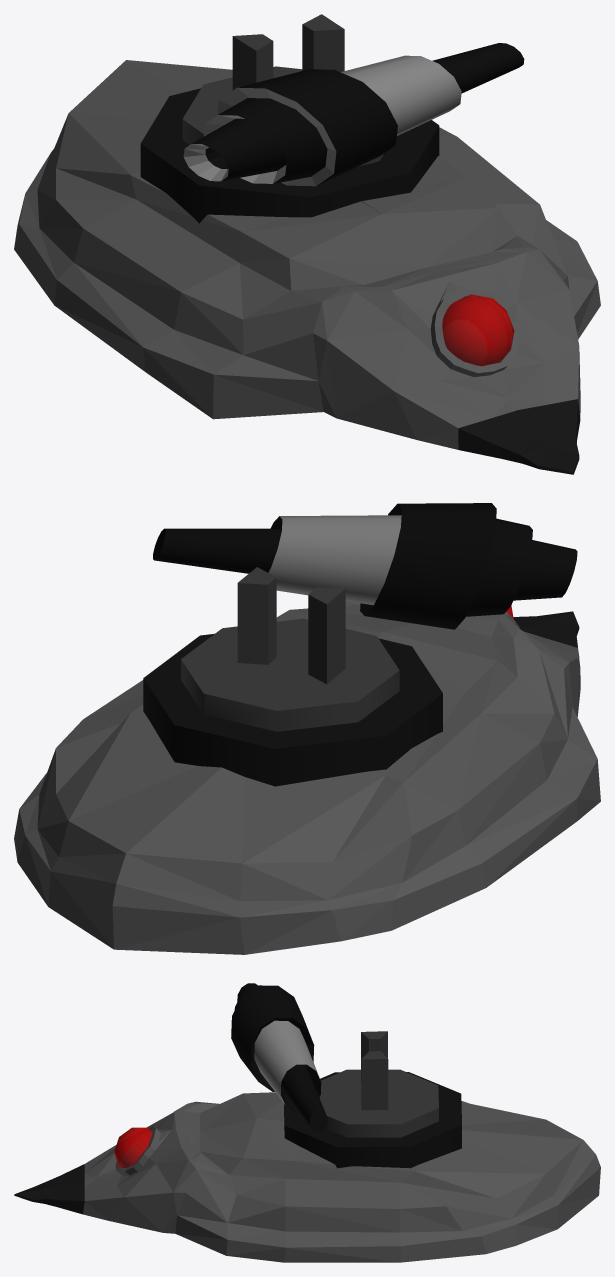
Rendered from CHR_Tank_Model_V10.FBX.
3 renders of one model, top to bottom at view 1: azimuth 30°, elevation 25°; view 2: azimuth 150°, elevation 25°; view 3: azimuth 270°, elevation 25°, orthographic. The views are drawn at different scales.
Parts seen in each view (by area): view 1: Box002, Cylinder017, Cylinder015, Cylinder016, GeoSphere001; view 2: Box002, Cylinder017, Cylinder016, Cylinder015; view 3: Box002, Cylinder017, Cylinder016, Cylinder015, GeoSphere001.
Boxes of the visible parts, box(x1,y1,x2,y2) form: Box002: box(14, 60, 600, 474); Cylinder017: box(183, 43, 524, 186); Cylinder015: box(140, 88, 439, 223); Cylinder016: box(182, 14, 383, 166); GeoSphere001: box(442, 294, 514, 366); Box002: box(14, 601, 600, 954); Cylinder017: box(153, 503, 577, 629); Cylinder016: box(181, 567, 399, 731); Cylinder015: box(143, 633, 442, 786); Box002: box(14, 1092, 600, 1262); Cylinder017: box(231, 983, 327, 1132); Cylinder016: box(319, 1031, 438, 1137); Cylinder015: box(284, 1072, 461, 1168); GeoSphere001: box(114, 1127, 152, 1167).
Bounding box in the file's own units: 73.82 × 55.72 × 136.
